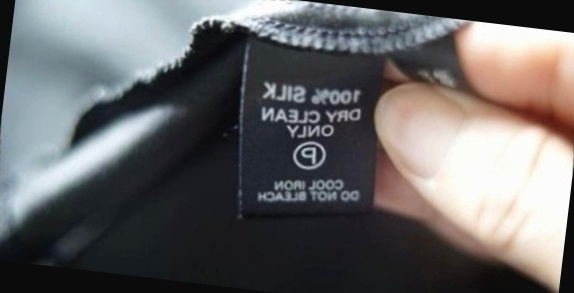dry_clean_any_solvent_except_trichloroethylene: (287, 135, 330, 174)
